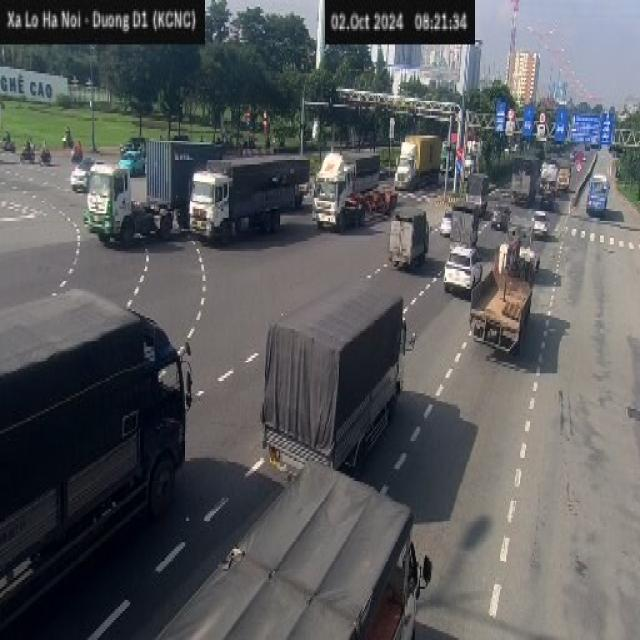bus: (587, 158, 614, 240)
car: (119, 143, 149, 184), (69, 156, 95, 201), (528, 204, 556, 243), (490, 199, 512, 233)
container-truck: (394, 134, 450, 188)
motorcycle: (15, 145, 40, 169), (0, 141, 17, 160), (69, 145, 83, 161), (40, 152, 54, 166), (57, 136, 77, 144)
person: (73, 128, 83, 159), (0, 119, 11, 146), (22, 128, 33, 153), (63, 117, 73, 139), (41, 134, 50, 158)
truck: (0, 306, 187, 605), (162, 454, 430, 640), (264, 281, 416, 466), (191, 150, 305, 242), (472, 244, 547, 346), (390, 200, 435, 266), (448, 197, 484, 250), (516, 149, 541, 208), (464, 164, 491, 218), (541, 152, 559, 220), (556, 152, 570, 206)
